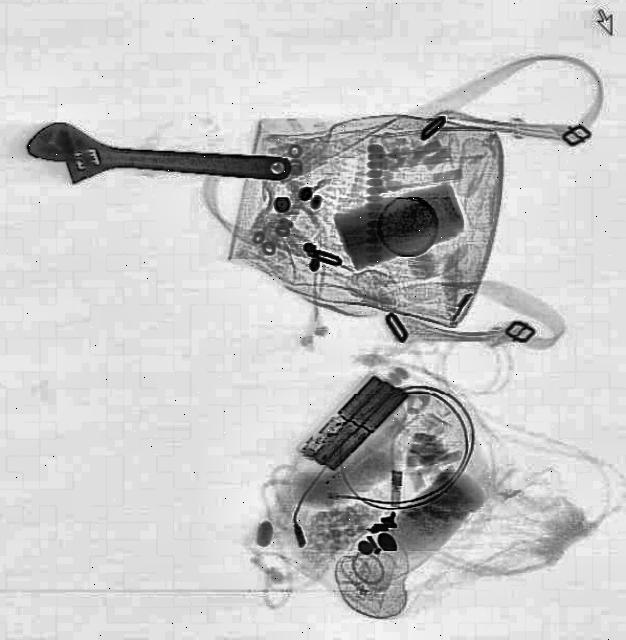Wrench: (24, 121, 294, 201)
